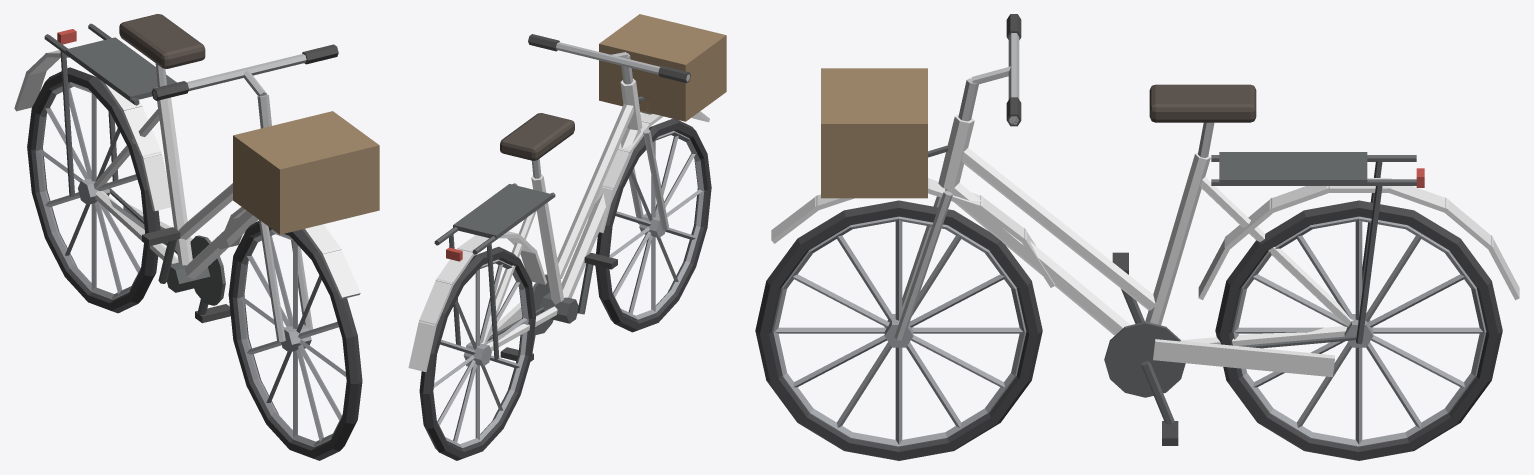
The model's file is bike-city.glb.
The picture shows the model from 3 angles, left to right: view 1: azimuth 30°, elevation 25°; view 2: azimuth 150°, elevation 25°; view 3: azimuth 270°, elevation 25°; orthographic projection. The views are drawn at different scales.
Visible parts, largest first — view 1: detach_basket, wheel-front, wheel-back, body, detach_rack, steer, detach_mudguard_back, seat, detach_mudguard_front; view 2: body, wheel-back, detach_basket, wheel-front, detach_rack, detach_mudguard_back, steer, seat, detach_mudguard_front; view 3: wheel-front, body, wheel-back, detach_basket, detach_rack, detach_mudguard_back, steer, seat, detach_mudguard_front.
Part boxes in pixels (<box>): detach_basket: <box>233,111,379,234</box>; wheel-front: <box>228,221,362,460</box>; wheel-back: <box>27,67,160,313</box>; body: <box>93,63,258,323</box>; detach_rack: <box>44,23,176,196</box>; steer: <box>151,44,338,342</box>; detach_mudguard_back: <box>14,49,171,211</box>; seat: <box>119,14,205,68</box>; detach_mudguard_front: <box>218,207,360,299</box>; body: <box>466,78,642,366</box>; wheel-back: <box>419,246,535,460</box>; detach_basket: <box>599,14,726,121</box>; wheel-front: <box>595,118,711,332</box>; detach_rack: <box>434,183,555,359</box>; detach_mudguard_back: <box>408,231,546,371</box>; steer: <box>528,34,690,230</box>; seat: <box>500,113,574,160</box>; detach_mudguard_front: <box>588,111,709,232</box>; wheel-front: <box>755,200,1042,460</box>; body: <box>938,114,1356,445</box>; wheel-back: <box>1215,200,1502,460</box>; detach_basket: <box>821,68,948,198</box>; detach_rack: <box>1211,152,1424,344</box>; detach_mudguard_back: <box>1198,177,1519,300</box>; steer: <box>894,14,1021,340</box>; seat: <box>1149,84,1256,122</box>; detach_mudguard_front: <box>771,178,1054,287</box>.
Bounding box in the file's own units: 0.58 × 1.07 × 1.86.
